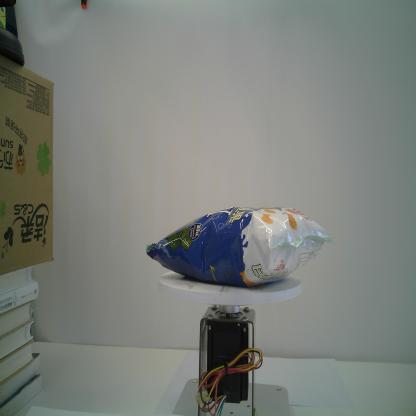Puffed Food: (146, 204, 336, 285)
